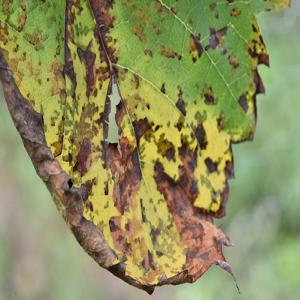Folha: (0, 0, 290, 295)
Fungo: (102, 73, 123, 155), (76, 39, 97, 97), (72, 136, 92, 176), (204, 25, 228, 51), (156, 133, 176, 162), (188, 32, 203, 62), (194, 122, 208, 150), (159, 44, 182, 61), (201, 83, 218, 105), (175, 84, 186, 116), (132, 23, 146, 45), (238, 92, 248, 112), (228, 53, 240, 69), (80, 183, 89, 201), (230, 6, 241, 17), (143, 47, 153, 58), (160, 82, 166, 94)
